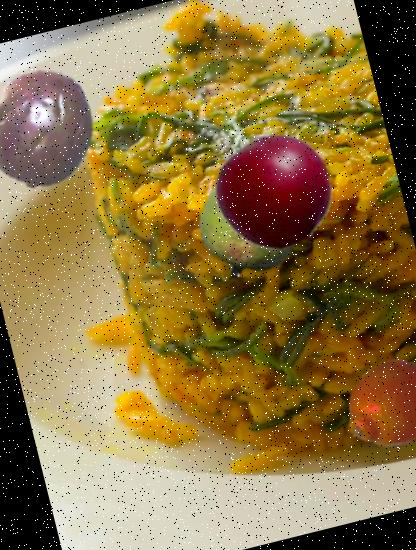Cherry: (205, 123, 344, 262)
Limes: (187, 160, 314, 287)
Passion: (0, 53, 115, 201)
Tangelo: (333, 345, 416, 467)
